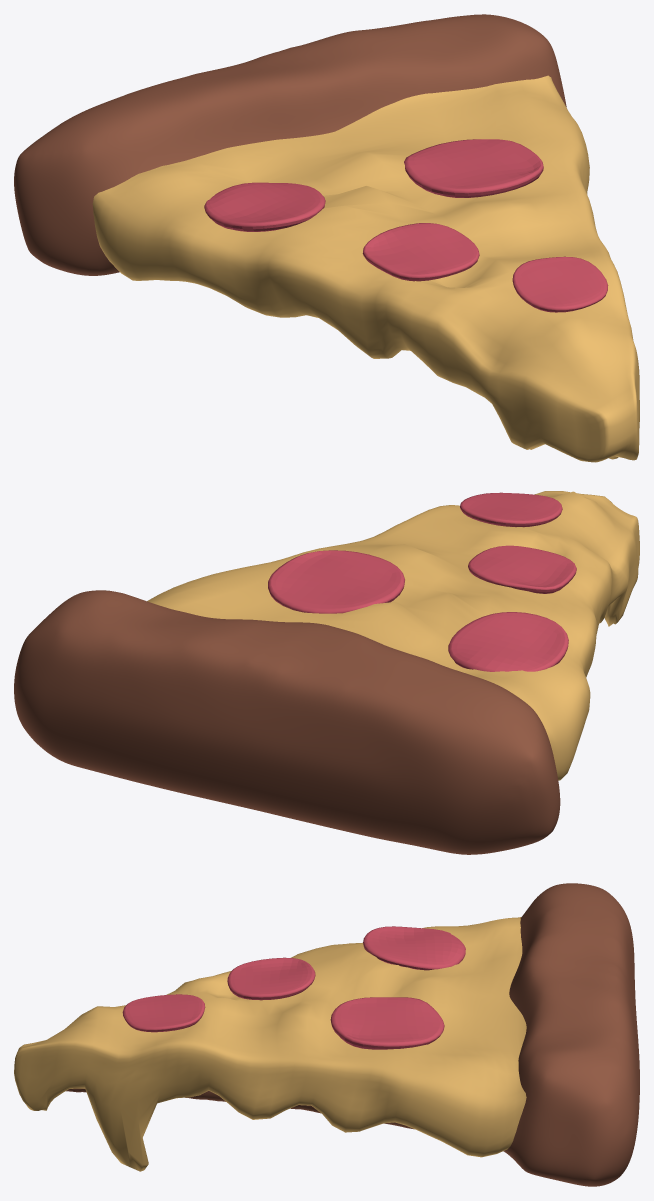
Rendered from pizza.fbx.
The picture shows the model from 3 angles, top to bottom: view 1: azimuth 30°, elevation 25°; view 2: azimuth 150°, elevation 25°; view 3: azimuth 270°, elevation 25°; orthographic projection. The views are drawn at different scales.
Visible parts, largest first — view 1: cheese, dough.002, pepperoni, pepperoni.001, pepperoni.002, pepperoni.003; view 2: dough.002, cheese, pepperoni, pepperoni.002, pepperoni.001, pepperoni.003; view 3: cheese, dough.002, pepperoni, pepperoni.002, pepperoni.001, pepperoni.003.
Boxes of the visible parts, bbox=[...] form: cheese: bbox=[92, 75, 639, 462]; dough.002: bbox=[14, 14, 566, 275]; pepperoni: bbox=[404, 139, 543, 197]; pepperoni.001: bbox=[362, 223, 479, 281]; pepperoni.002: bbox=[204, 182, 325, 231]; pepperoni.003: bbox=[512, 256, 608, 312]; dough.002: bbox=[14, 590, 560, 854]; cheese: bbox=[147, 491, 639, 780]; pepperoni: bbox=[268, 550, 404, 613]; pepperoni.002: bbox=[448, 612, 568, 671]; pepperoni.001: bbox=[468, 545, 576, 593]; pepperoni.003: bbox=[460, 492, 562, 527]; cheese: bbox=[14, 917, 526, 1171]; dough.002: bbox=[66, 883, 639, 1186]; pepperoni: bbox=[330, 997, 444, 1049]; pepperoni.002: bbox=[363, 926, 465, 970]; pepperoni.001: bbox=[227, 957, 315, 1000]; pepperoni.003: bbox=[122, 994, 205, 1032].
Bounding box in the file's own units: 453 × 182 × 544.
